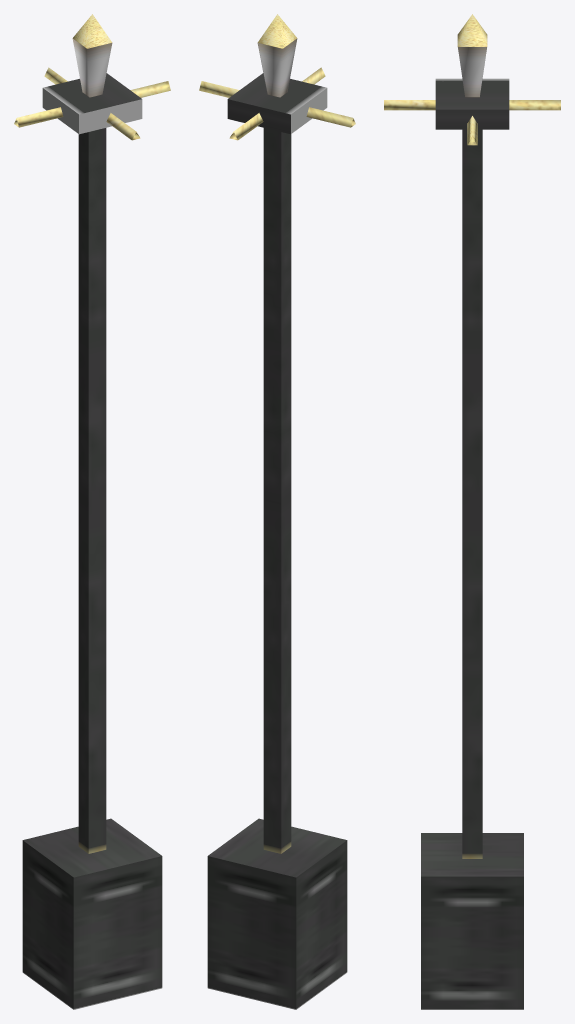
The model's file is thm_nboo_thed_imprv_streetlamp_s01_l2.fbx.
3 renders of one model, left to right at view 1: azimuth 30°, elevation 25°; view 2: azimuth 150°, elevation 25°; view 3: azimuth 270°, elevation 25°, orthographic.
Parts seen in each view (by area): view 1: mesh_node; view 2: mesh_node; view 3: mesh_node.
Boxes of the visible parts, box(x1,y1,x2,y2) form: mesh_node: box(14, 14, 170, 1009); mesh_node: box(199, 14, 355, 1009); mesh_node: box(384, 14, 560, 1009).
Size of the model in its own units: 1.2 by 7.3 by 1.2.
